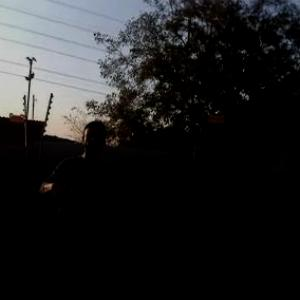follow: (27, 107, 122, 299)
